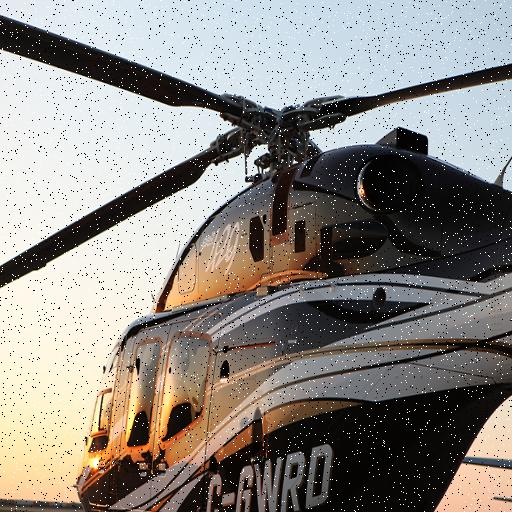helicopter: (1, 8, 512, 512)
